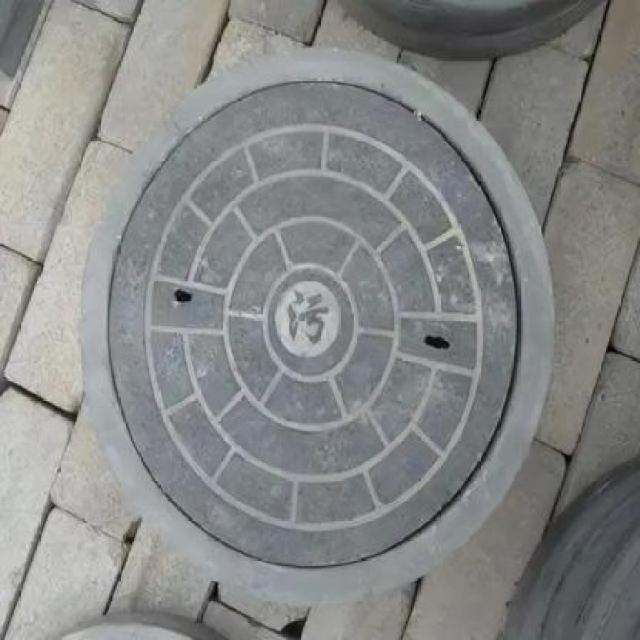Sewer Cover: (65, 35, 579, 590)
